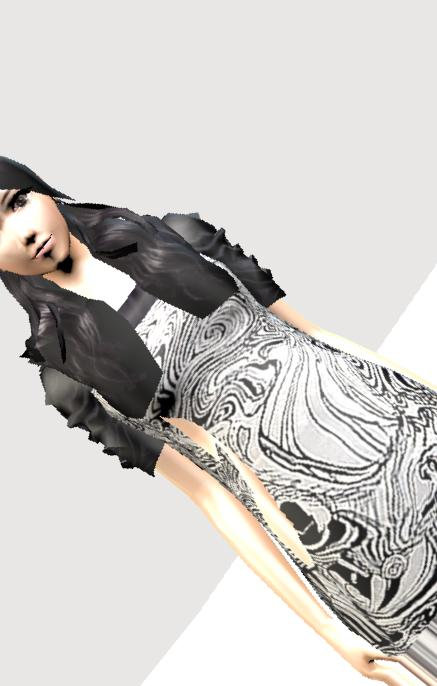clip: (155, 413, 224, 450)
